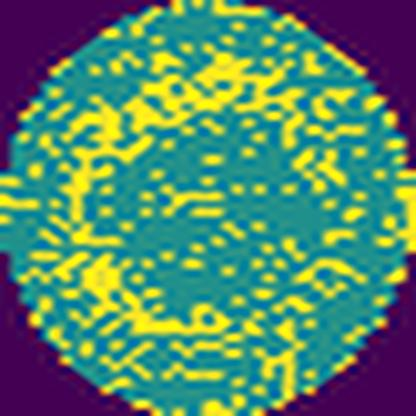Donut: (49, 42, 366, 360)
